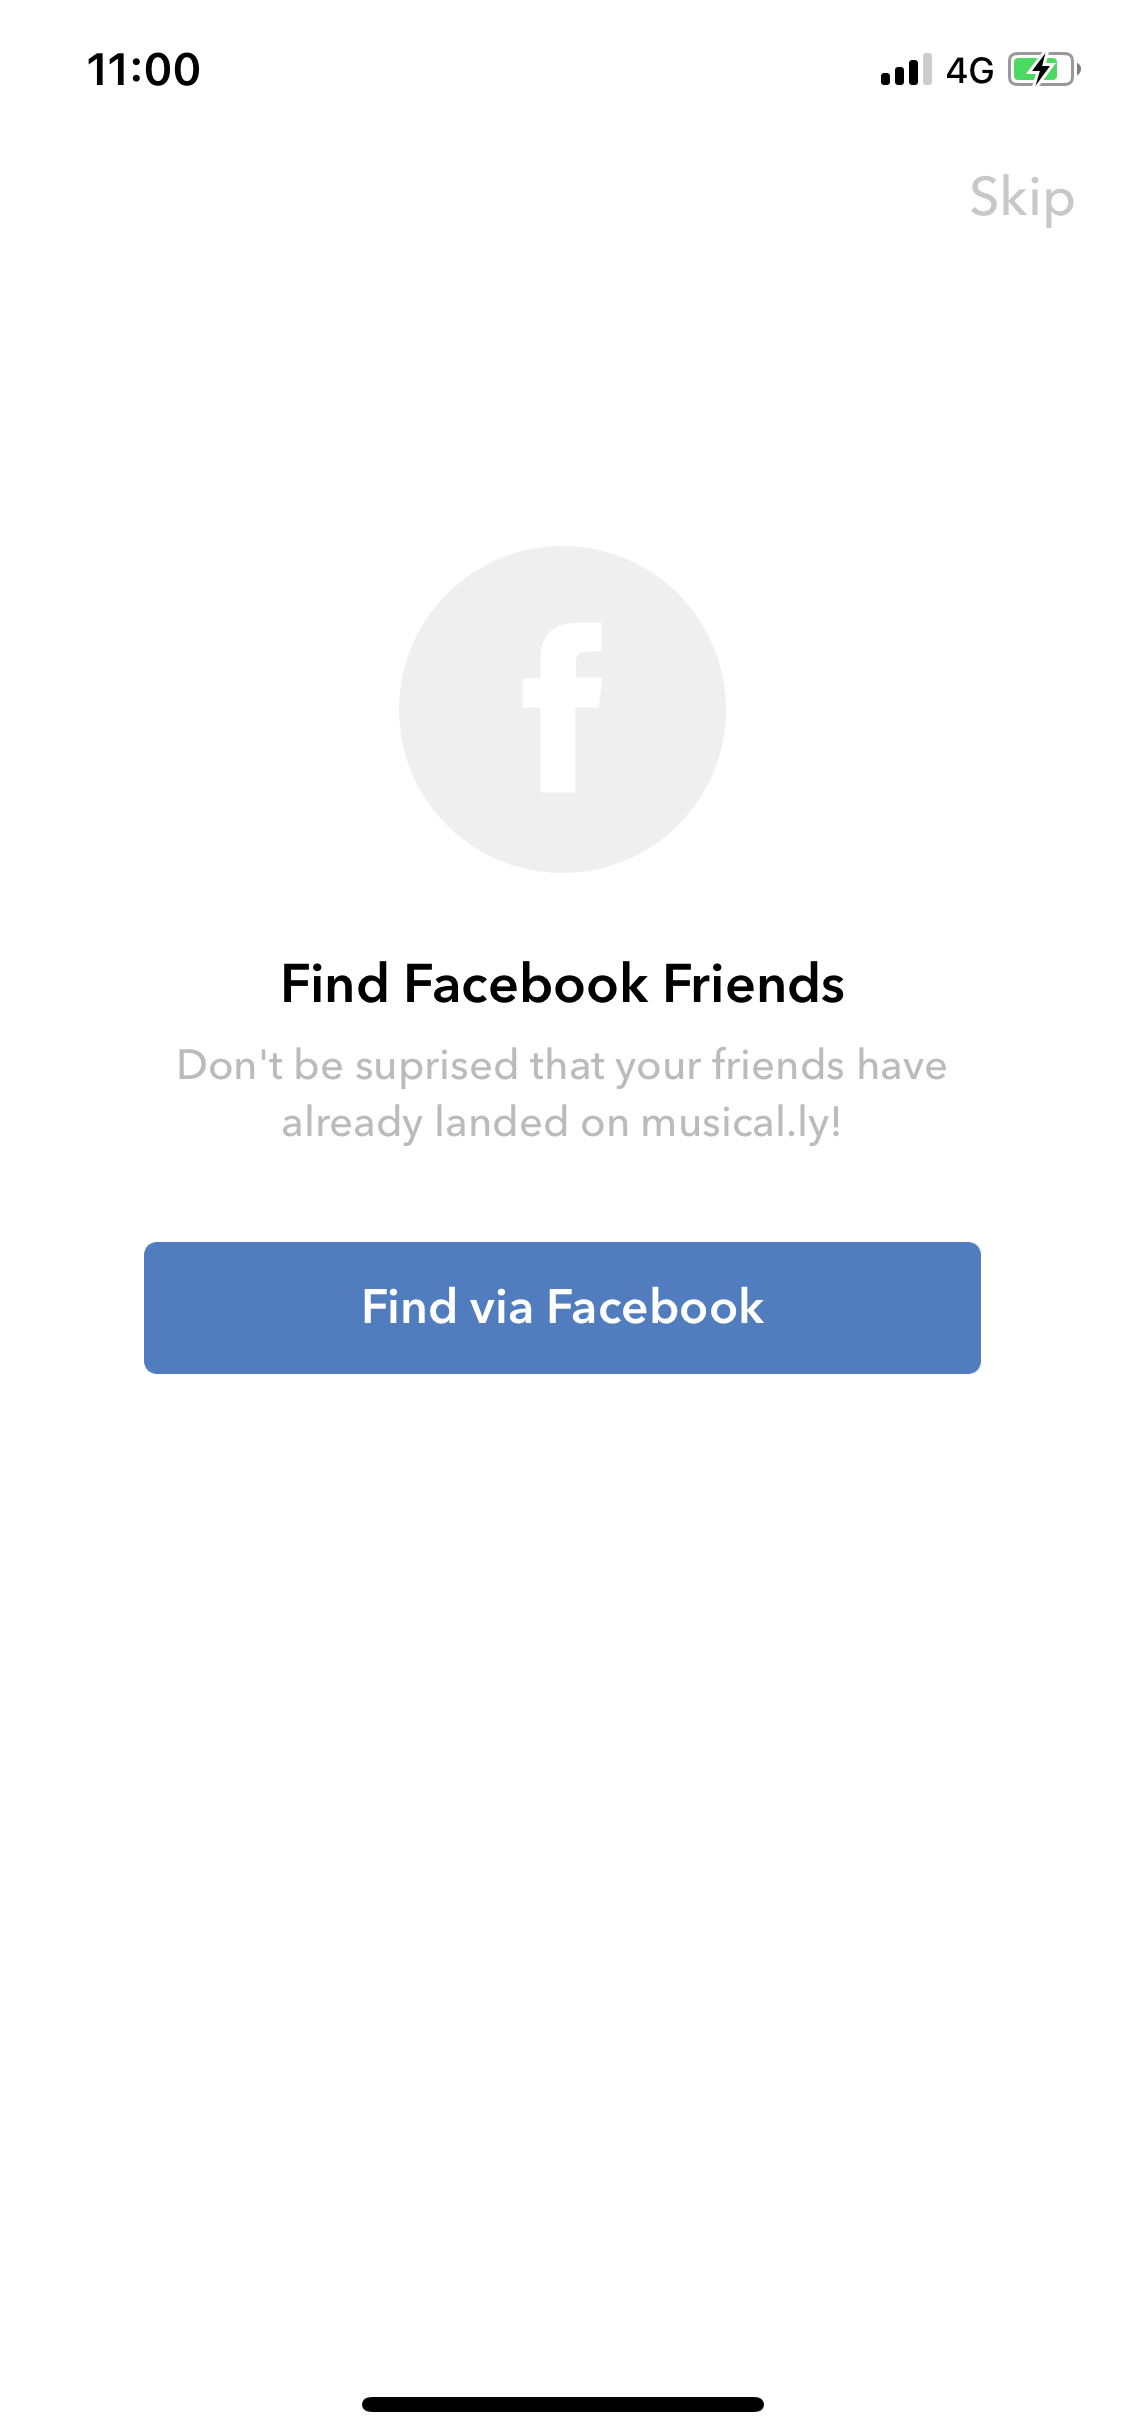Buttons: (134, 1223, 991, 1392), (942, 137, 1117, 245)
